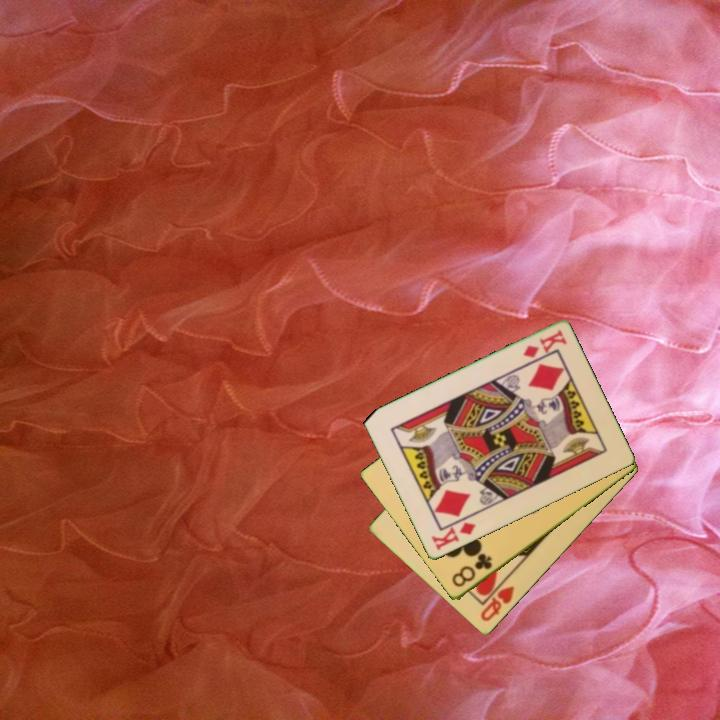8c: (448, 550, 495, 590)
Kd: (428, 519, 478, 554), (520, 326, 569, 361)
Qh: (477, 583, 517, 625)
